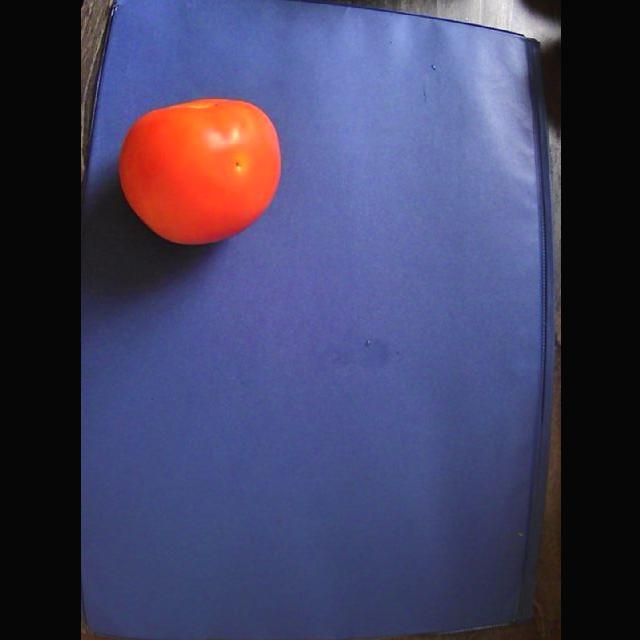tomate: (120, 100, 280, 244)
